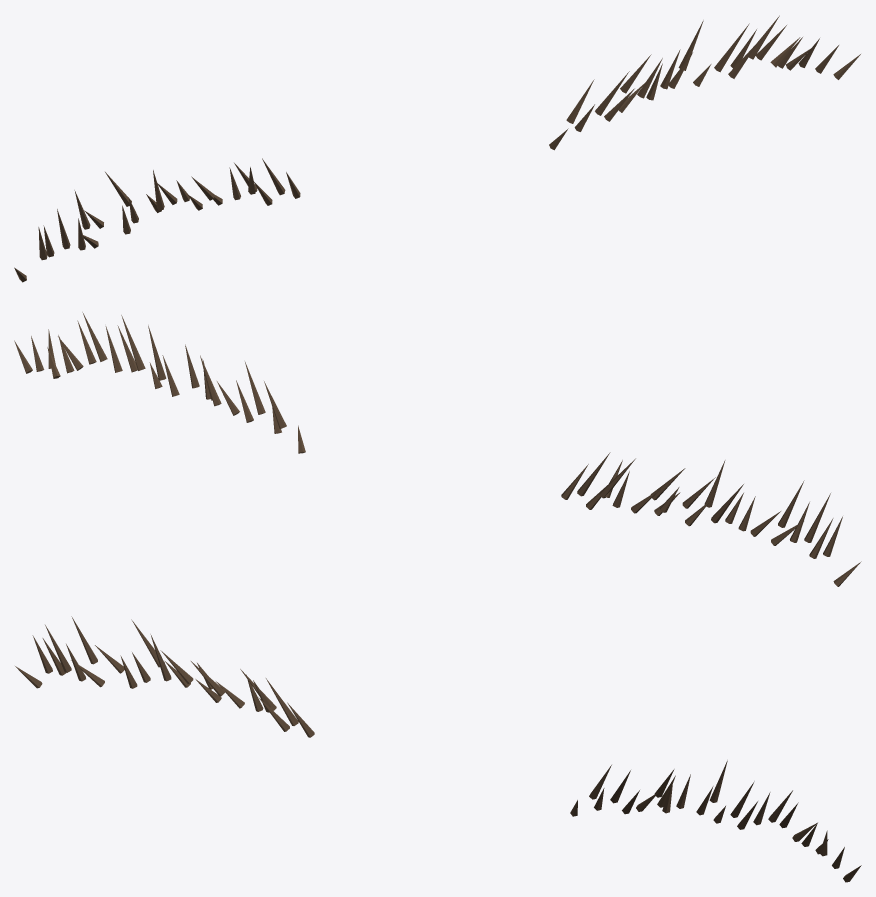
Rendered from arched.glb.
The picture shows the model from 3 angles, top to bottom: view 1: azimuth 30°, elevation 25°; view 2: azimuth 150°, elevation 25°; view 3: azimuth 330°, elevation 25°; orthographic projection.
Size of the model in its own units: 0.1802 by 0.0195 by 0.00898.
